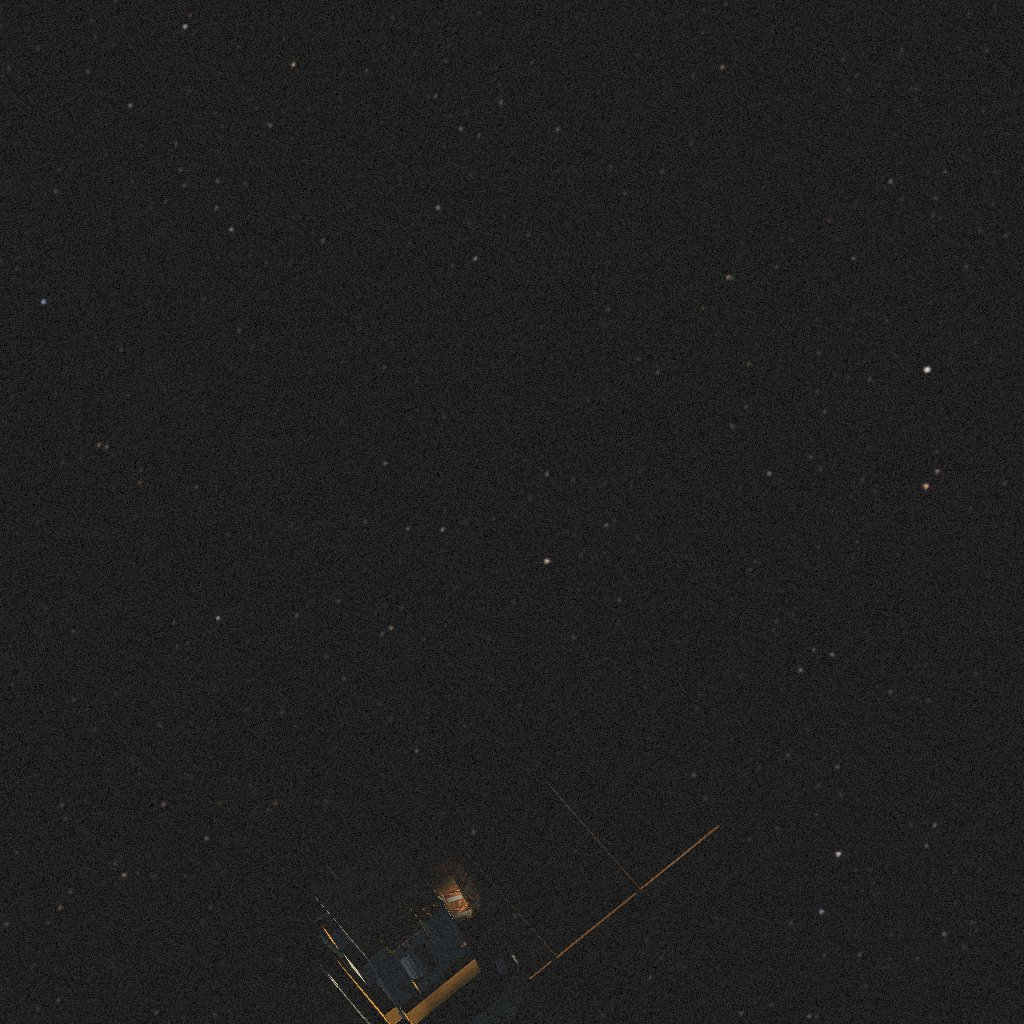soho: (243, 718, 719, 1024)
